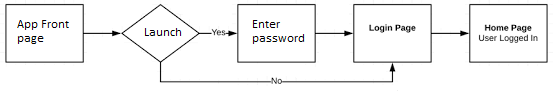arrow: (157, 59, 397, 84), (83, 28, 122, 38), (314, 29, 353, 37), (429, 29, 468, 37), (196, 31, 237, 37)
decision: (120, 3, 201, 63)
process: (3, 2, 86, 64), (351, 2, 434, 64), (235, 3, 317, 64), (468, 3, 550, 64)
text: (251, 17, 306, 46), (15, 19, 73, 46), (477, 23, 539, 43), (367, 22, 418, 34), (142, 25, 184, 39), (209, 27, 226, 37), (270, 75, 284, 86)
